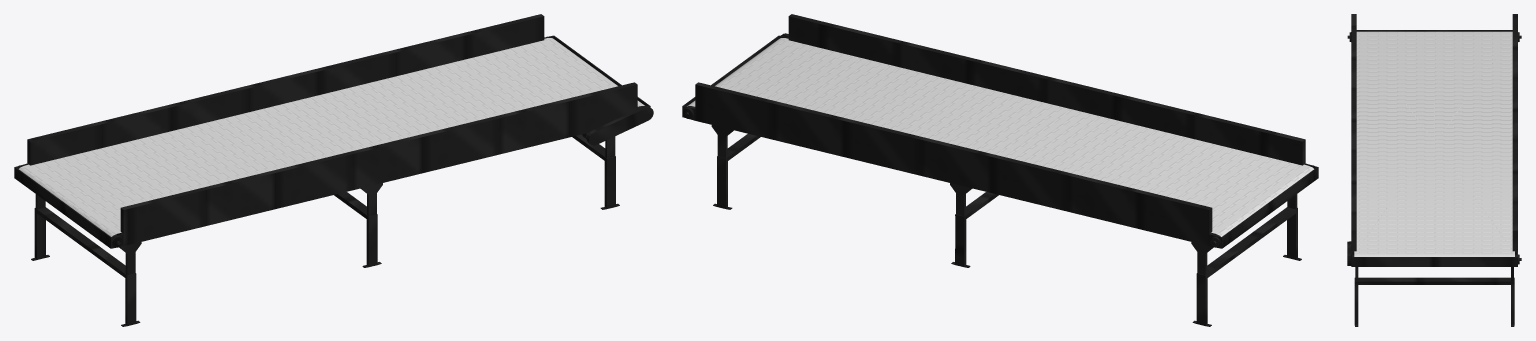
Rendered from NewCOnmveyor.fbx.
3 renders of one model, left to right at view 1: azimuth 30°, elevation 25°; view 2: azimuth 150°, elevation 25°; view 3: azimuth 270°, elevation 25°, orthographic. The views are drawn at different scales.
Parts seen in each view (by area): view 1: Conveyer.001, Conveyer.002; view 2: Conveyer.001, Conveyer.002; view 3: Conveyer.002, Conveyer.001.
Part boxes in pixels (box(x1,y1,x2,y2)): Conveyer.001: box(14, 14, 653, 326); Conveyer.002: box(19, 38, 644, 236); Conveyer.001: box(682, 14, 1318, 326); Conveyer.002: box(687, 38, 1313, 236); Conveyer.002: box(1354, 31, 1514, 256); Conveyer.001: box(1347, 14, 1521, 326).
Bounding box in the file's own units: 8774 × 1846 × 2842.
